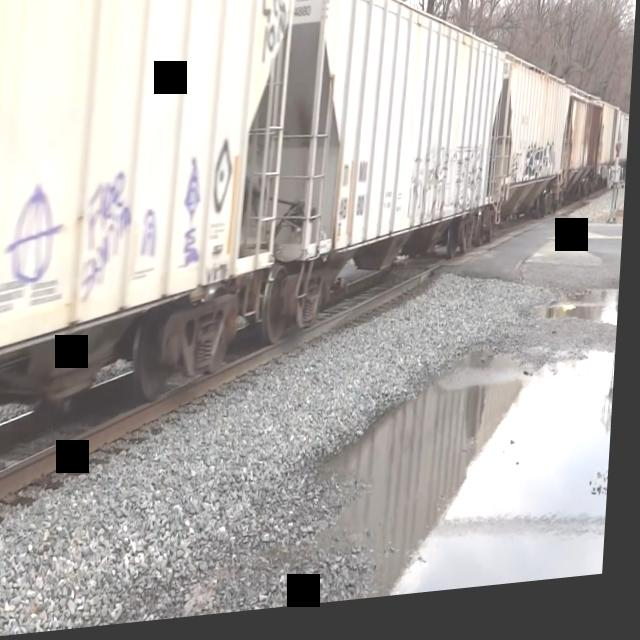hopper: (0, 0, 295, 433), (276, 0, 508, 341), (495, 47, 580, 243)
